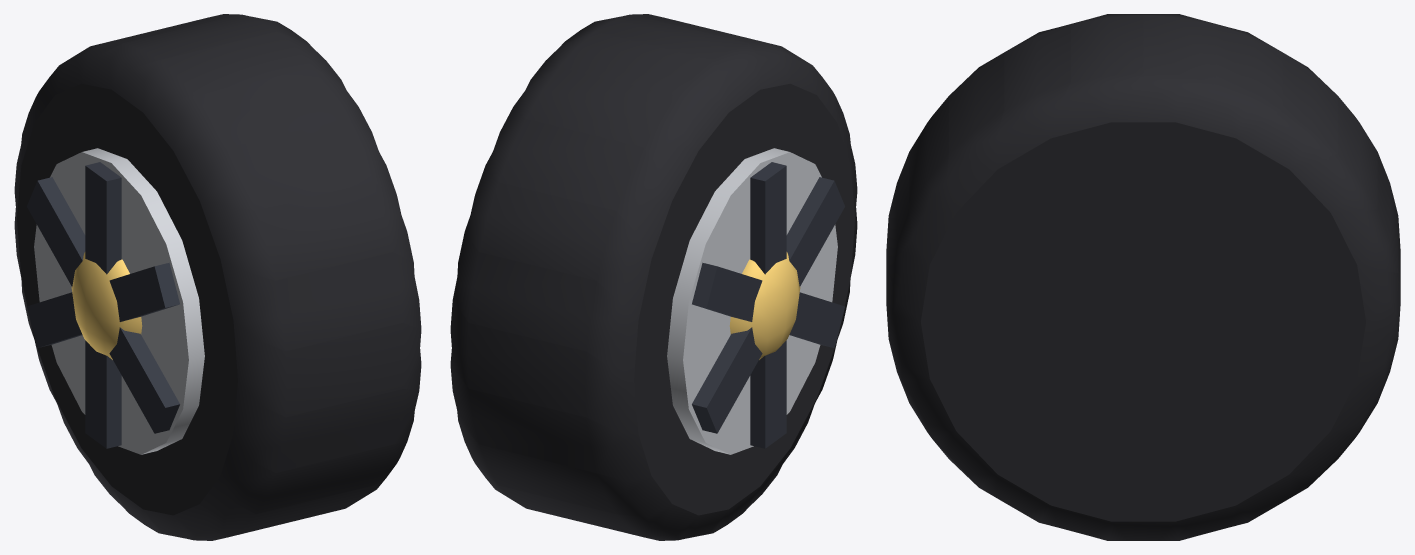
Rendered from kartwheel.glb.
The picture shows the model from 3 angles, left to right: view 1: azimuth 30°, elevation 25°; view 2: azimuth 150°, elevation 25°; view 3: azimuth 270°, elevation 25°; orthographic projection.
Visible parts, largest first — view 1: K_Tire, K_RimDisc, K_Spoke.002, K_Spoke, K_Spoke.001, K_Hub; view 2: K_Tire, K_RimDisc, K_Spoke.001, K_Spoke, K_Spoke.002, K_Hub; view 3: K_Tire.
Boxes of the visible parts, x1,y1,x2,y2 form: K_Tire: (14, 14, 421, 540); K_RimDisc: (34, 148, 204, 454); K_Spoke.002: (27, 177, 179, 433); K_Spoke: (85, 162, 121, 448); K_Spoke.001: (27, 262, 179, 347); K_Hub: (71, 252, 142, 359); K_Tire: (450, 14, 857, 540); K_RimDisc: (667, 148, 837, 454); K_Spoke.001: (692, 177, 844, 433); K_Spoke: (750, 162, 786, 448); K_Spoke.002: (692, 262, 844, 347); K_Hub: (729, 252, 800, 359); K_Tire: (886, 14, 1400, 540).
Bounding box in the file's own units: 0.42 × 0.8314 × 0.83.
